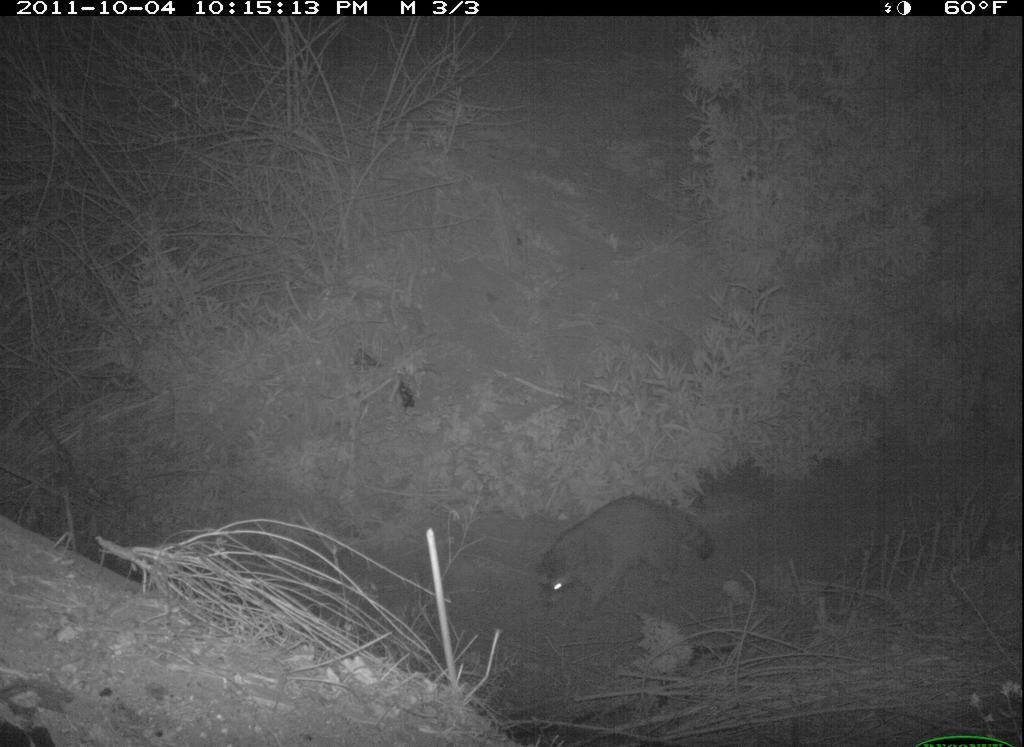raccoon: (529, 489, 722, 632)
